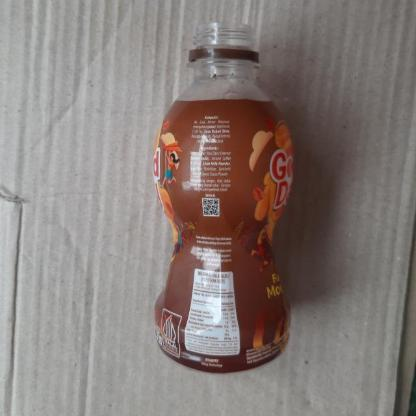Plastic Bottle: (151, 24, 297, 374)
